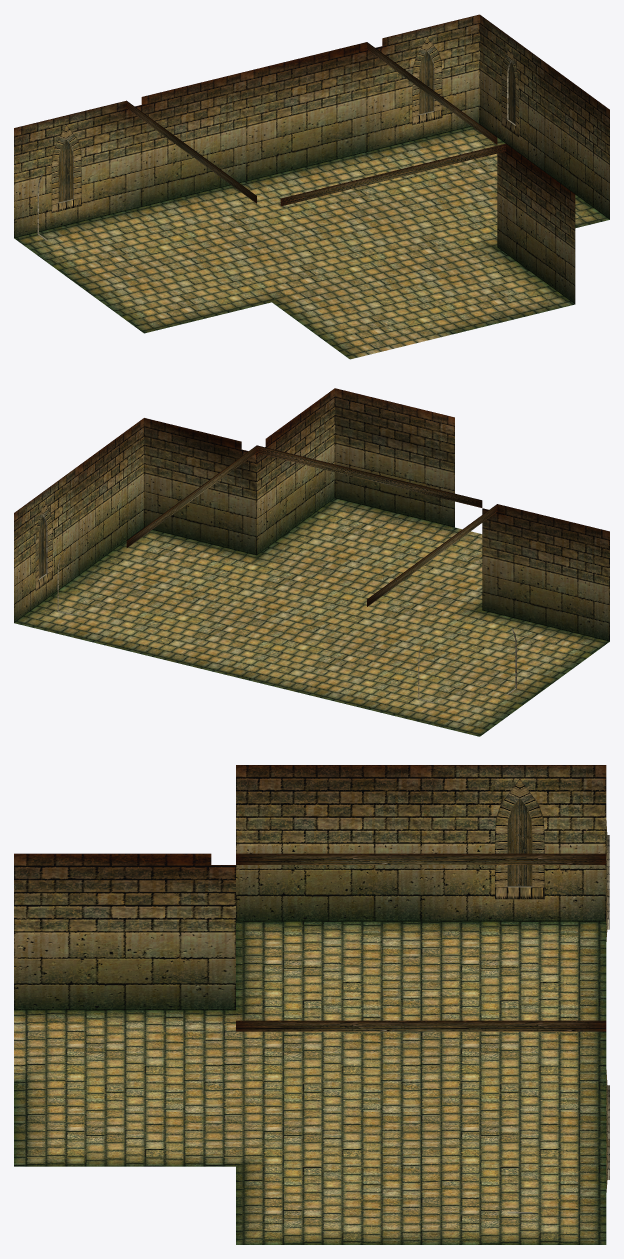
File: MISSION12_INTERIORROOMS01B.glb
3 views of the same model, one above another, from view 1: azimuth 30°, elevation 25°; view 2: azimuth 150°, elevation 25°; view 3: azimuth 270°, elevation 25° (orthographic). The views are drawn at different scales.
Visible parts, largest first — view 1: MISSION12_INTERIORROOMS01B; view 2: MISSION12_INTERIORROOMS01B; view 3: MISSION12_INTERIORROOMS01B.
Boxes of the visible parts, x1,y1,x2,y2 form: MISSION12_INTERIORROOMS01B: (14,14,609,359); MISSION12_INTERIORROOMS01B: (14,388,609,736); MISSION12_INTERIORROOMS01B: (14,765,609,1244).
Bounding box in the file's own units: 15.67 × 3.5 × 12.08.
Materials: 6 (6 with a texture image).
